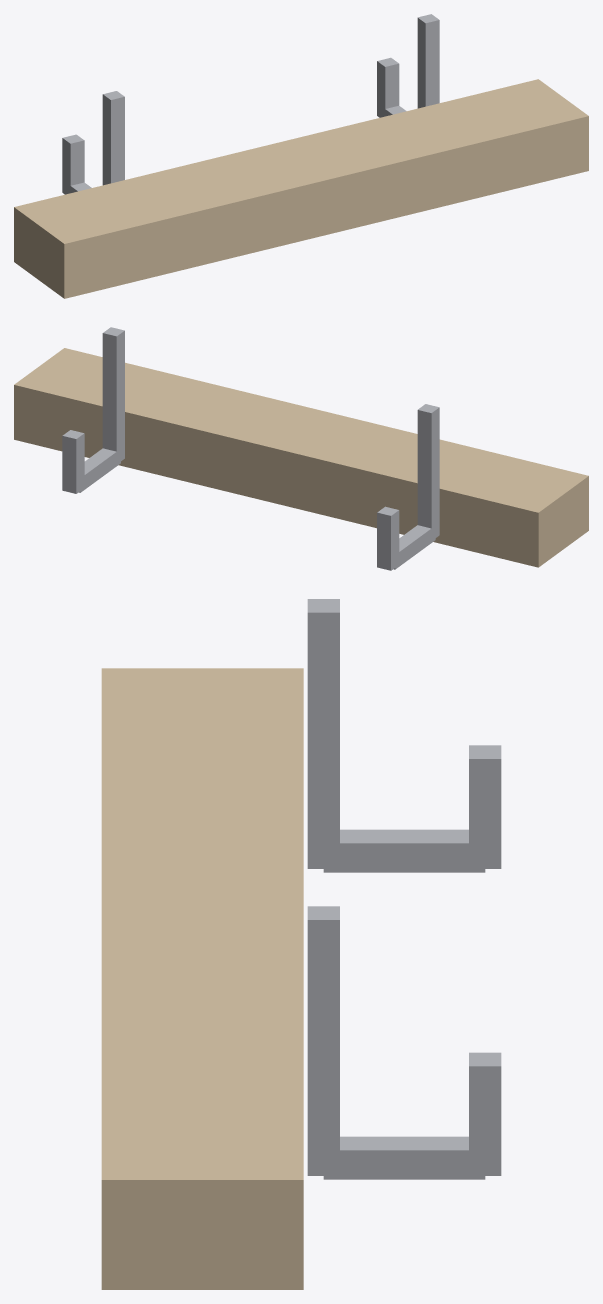
The model's file is prop-hanging-hook-fm1.fbx.
3 renders of one model, top to bottom at view 1: azimuth 30°, elevation 25°; view 2: azimuth 150°, elevation 25°; view 3: azimuth 270°, elevation 25°, orthographic. The views are drawn at different scales.
Visible parts, largest first — view 1: prop-hanging-hook-fm1; view 2: prop-hanging-hook-fm1; view 3: prop-hanging-hook-fm1.
Boxes of the visible parts, left/top/right/bottom form: prop-hanging-hook-fm1: left=14, top=14, right=588, bottom=298; prop-hanging-hook-fm1: left=14, top=327, right=588, bottom=570; prop-hanging-hook-fm1: left=101, top=599, right=501, bottom=1289.
Bounding box in the file's own units: 30 × 7.5 × 9.9.
